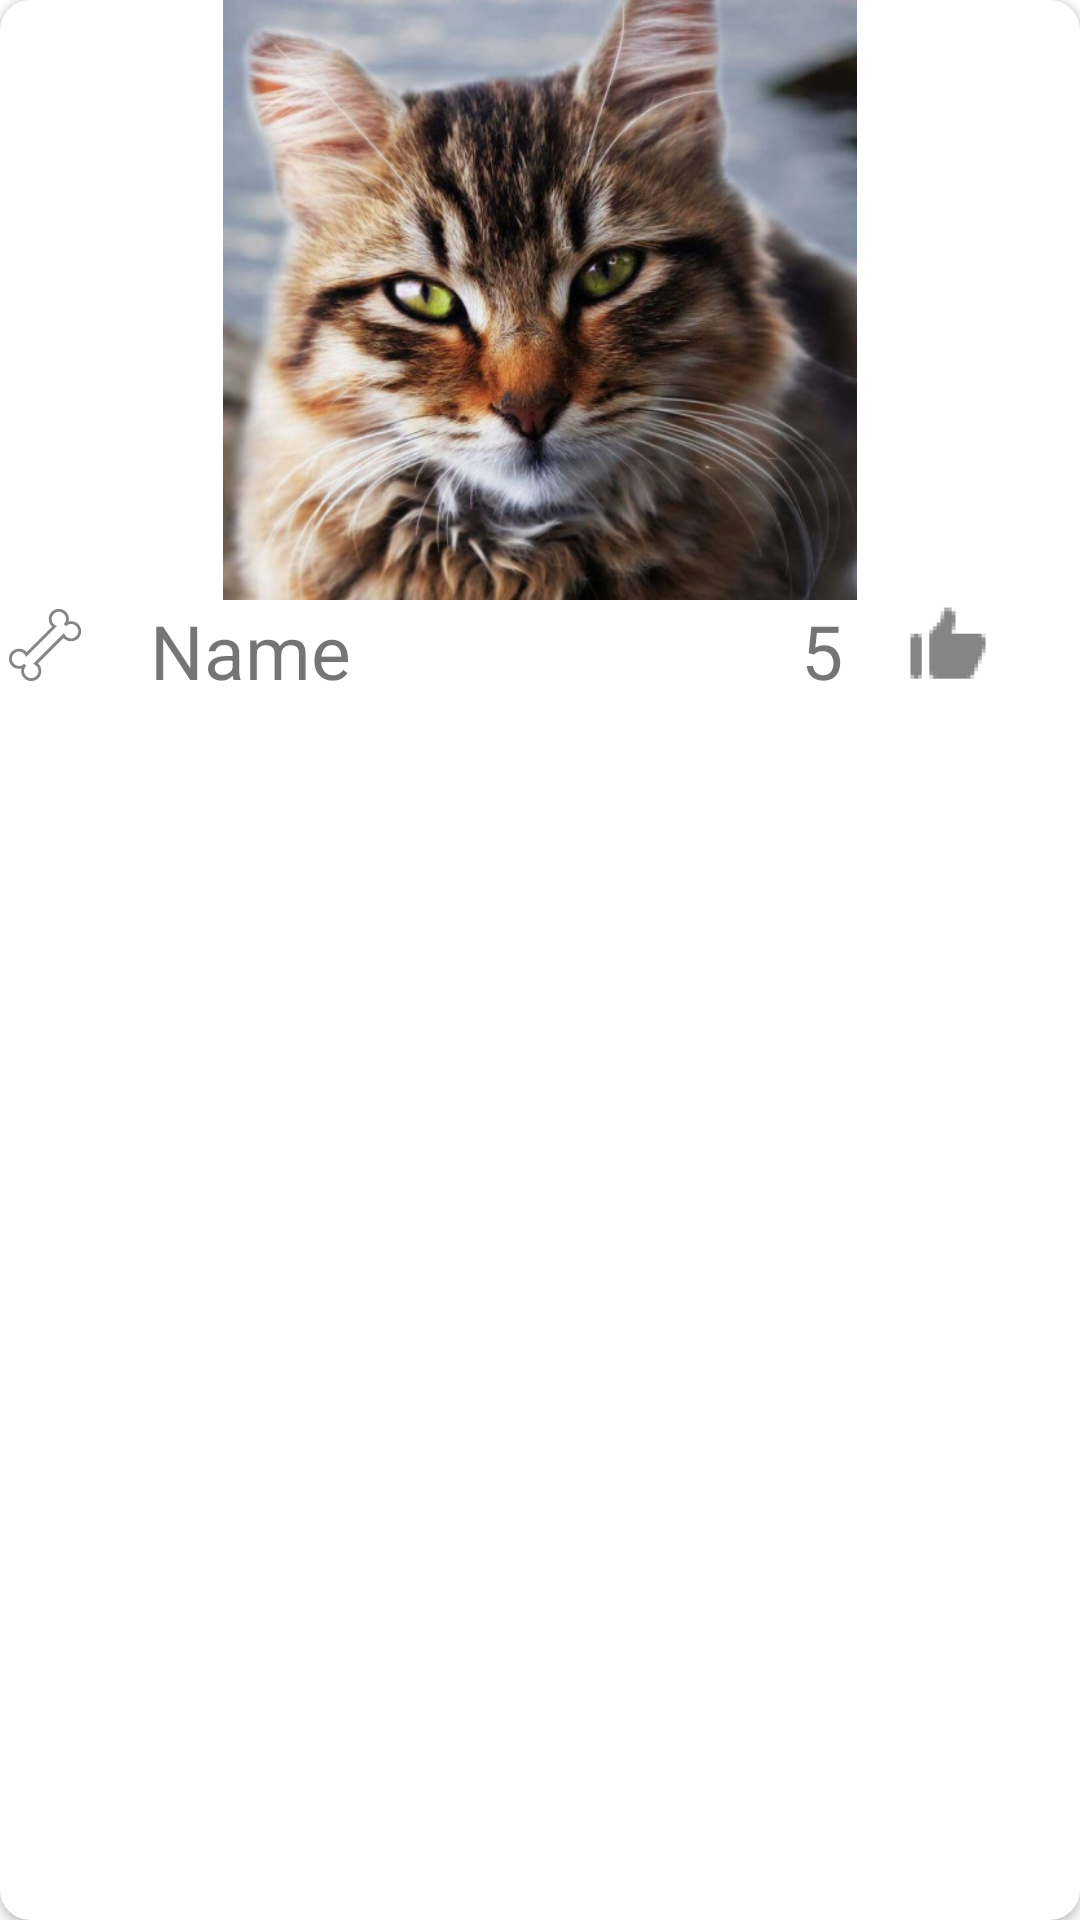

Where to tap for icons on this 1080 × 1920 app screen, as (x,y):
bone: (45,645)
like: (948,643)
